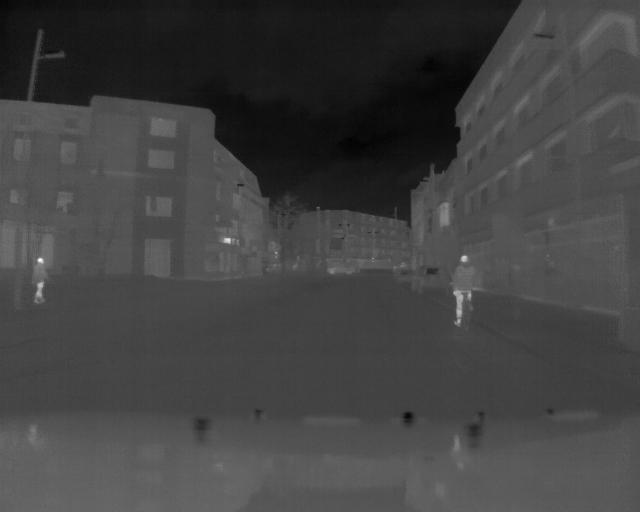car: (325, 253, 359, 272)
person: (455, 253, 482, 327), (34, 253, 55, 302)
